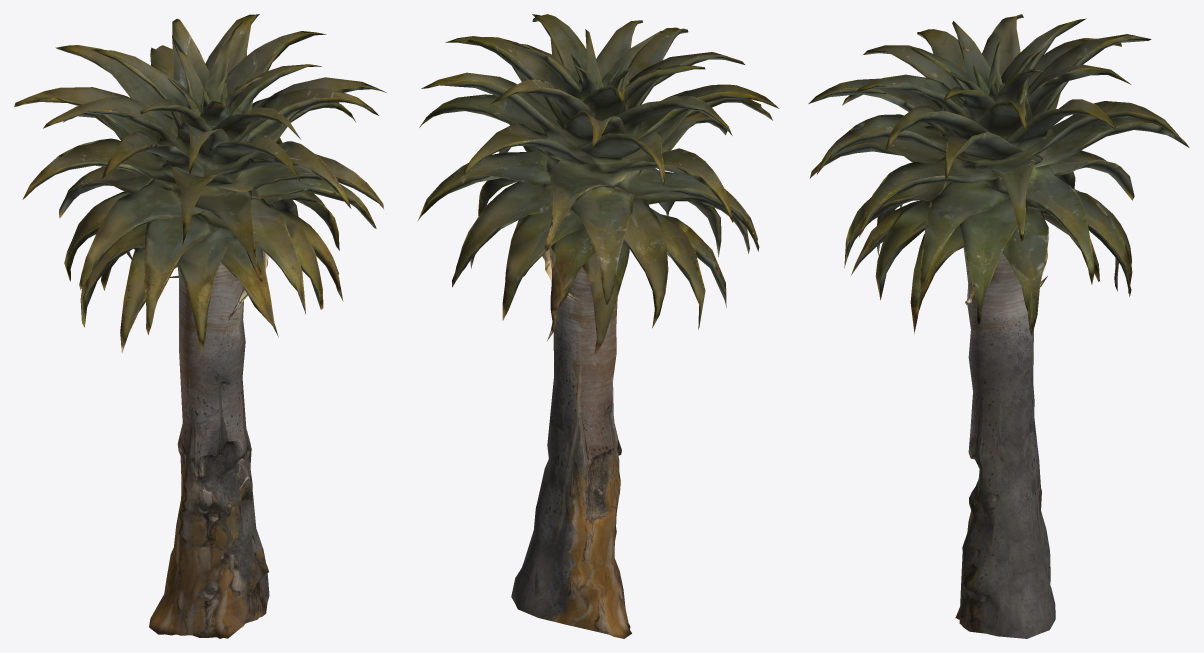
File: nama_quiver_02.glb
The picture shows the model from 3 angles, left to right: view 1: azimuth 30°, elevation 25°; view 2: azimuth 150°, elevation 25°; view 3: azimuth 270°, elevation 25°; orthographic projection.
Parts seen in each view (by area): view 1: nama_quiver_02; view 2: nama_quiver_02; view 3: nama_quiver_02.
Boxes of the visible parts, left/top/right/bottom form: nama_quiver_02: left=14, top=14, right=386, bottom=638; nama_quiver_02: left=417, top=14, right=779, bottom=638; nama_quiver_02: left=808, top=14, right=1189, bottom=638.
Bounding box in the file's own units: 2.07 × 3.52 × 2.1.
1 material, 1 textured.
